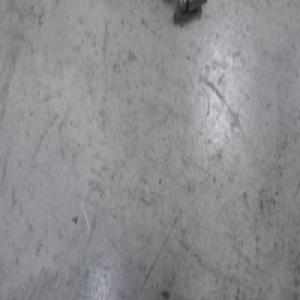AdjustableClamp: (177, 1, 207, 12)
